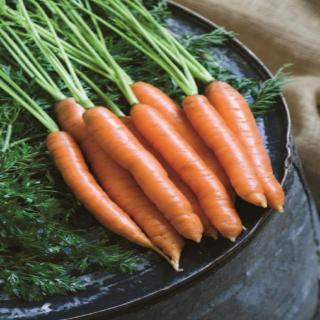Wortel: (81, 104, 210, 249), (129, 101, 247, 246), (43, 130, 171, 257), (183, 95, 271, 213)
